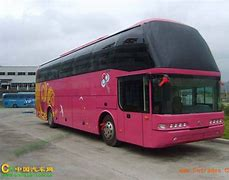bigcar: (33, 16, 224, 151)
